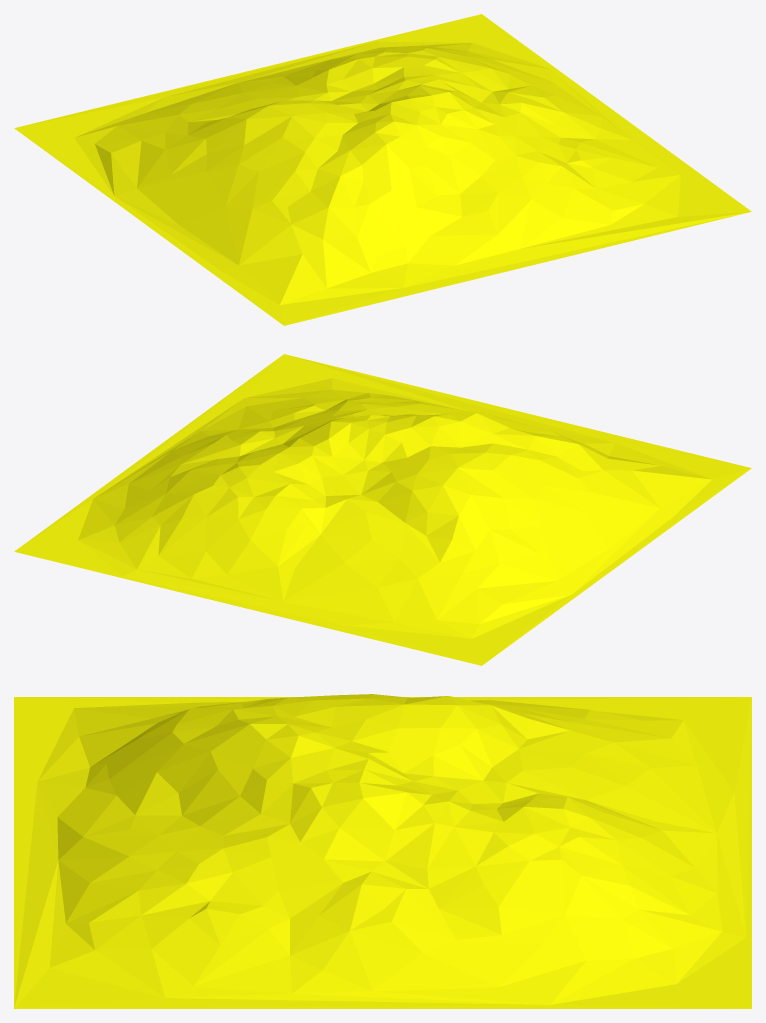
File: hills01.glb
3 views of the same model, one above another, from view 1: azimuth 30°, elevation 25°; view 2: azimuth 150°, elevation 25°; view 3: azimuth 270°, elevation 25° (orthographic). The views are drawn at different scales.
Visible parts, largest first — view 1: hills01; view 2: hills01; view 3: hills01.
Boxes of the visible parts, x1,y1,x2,y2 form: hills01: (14, 14, 751, 325); hills01: (14, 354, 751, 665); hills01: (14, 694, 751, 1008).
Size of the model in its own units: 20 by 3.1 by 20.
1 material, 1 textured.
